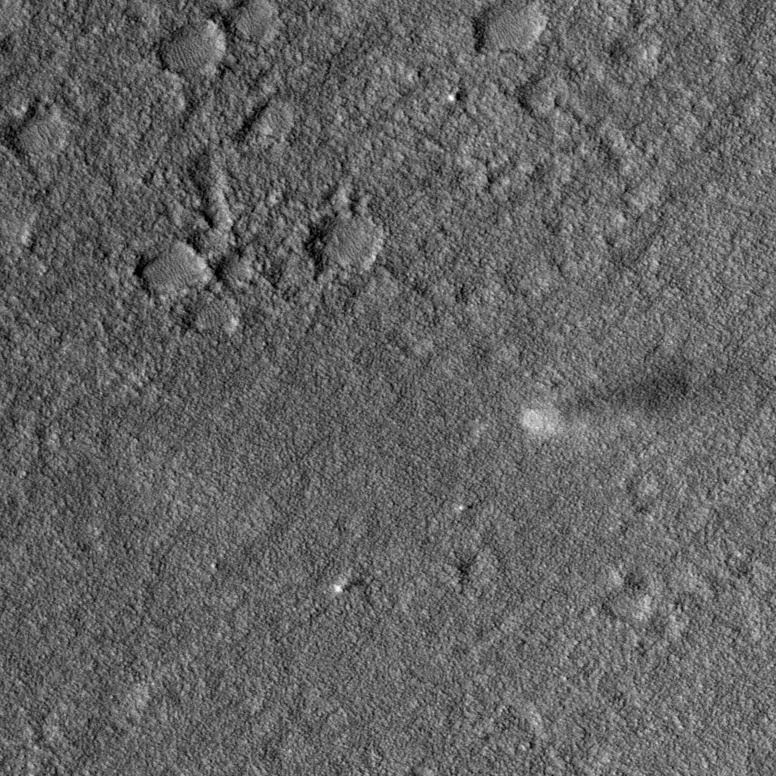dust_devil: (519, 360, 690, 437)
